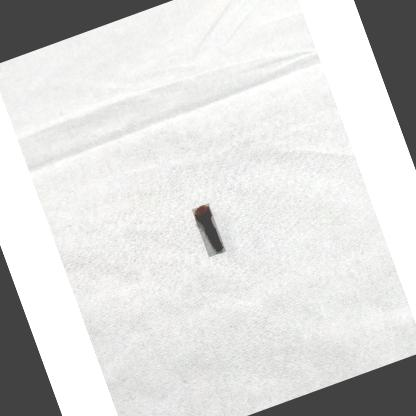sedang: (195, 204, 224, 252)
